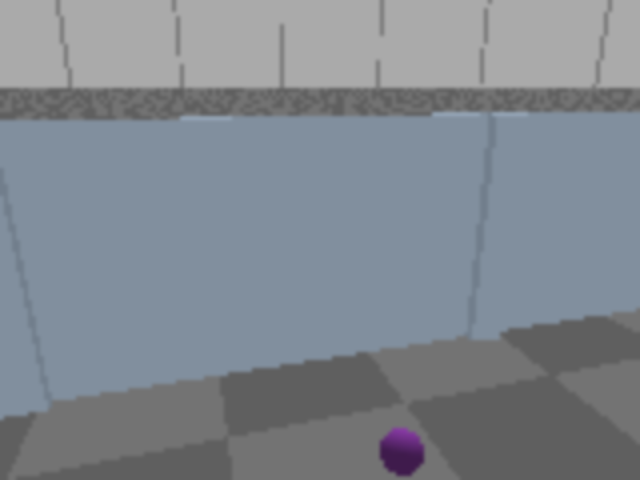puck: (371, 413, 433, 478)
